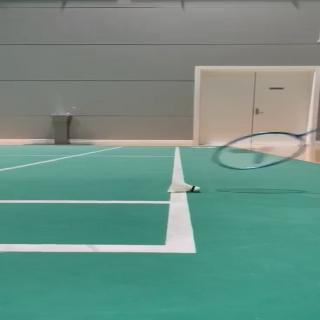Shuttle: (166, 179, 202, 193)
